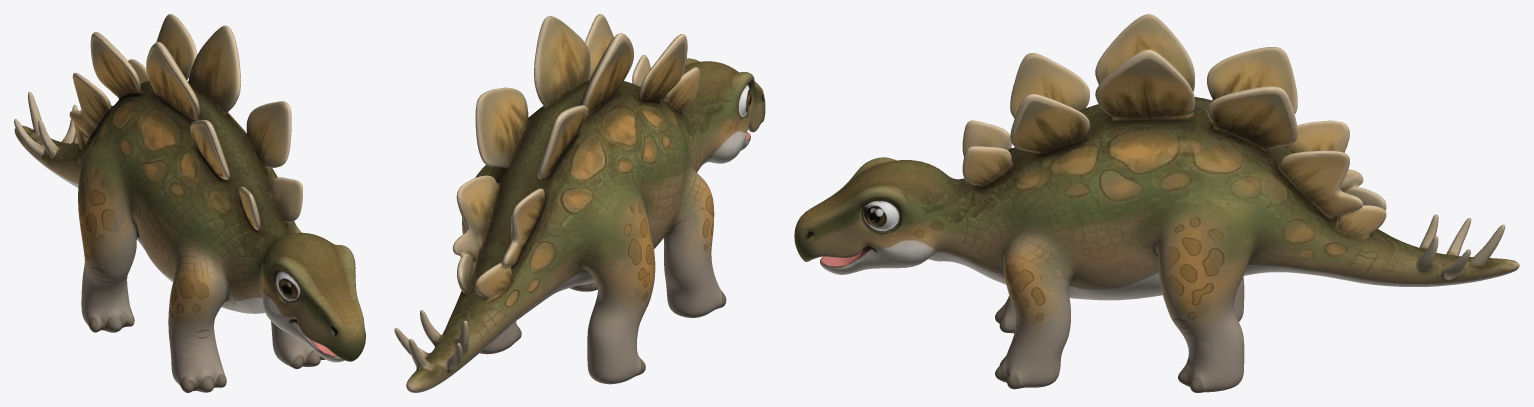
File: S-dino.glb
The picture shows the model from 3 angles, left to right: view 1: azimuth 30°, elevation 25°; view 2: azimuth 150°, elevation 25°; view 3: azimuth 270°, elevation 25°; orthographic projection. The views are drawn at different scales.
Bounding box in the file's own units: 0.5518 × 0.935 × 1.9.
1 material, 1 textured.
